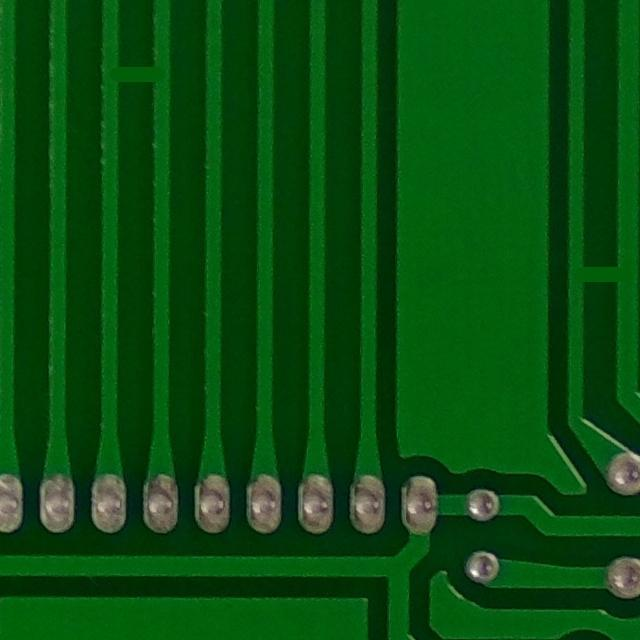short: (554, 245, 640, 308), (93, 44, 175, 103)
